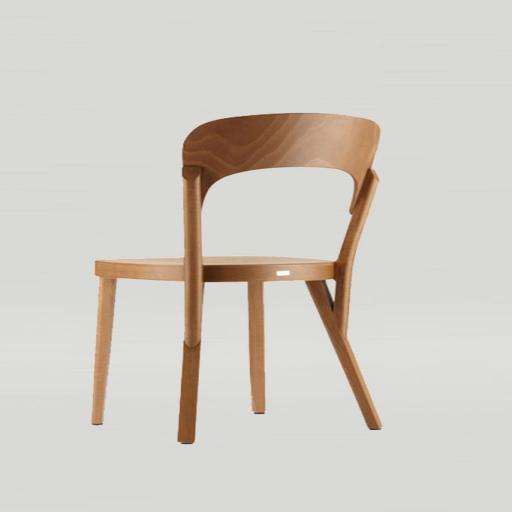chair: (91, 112, 382, 444)
